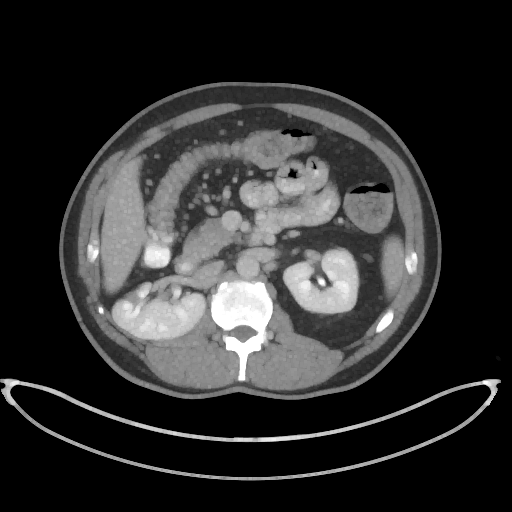Lesion: (122, 292, 143, 308)
